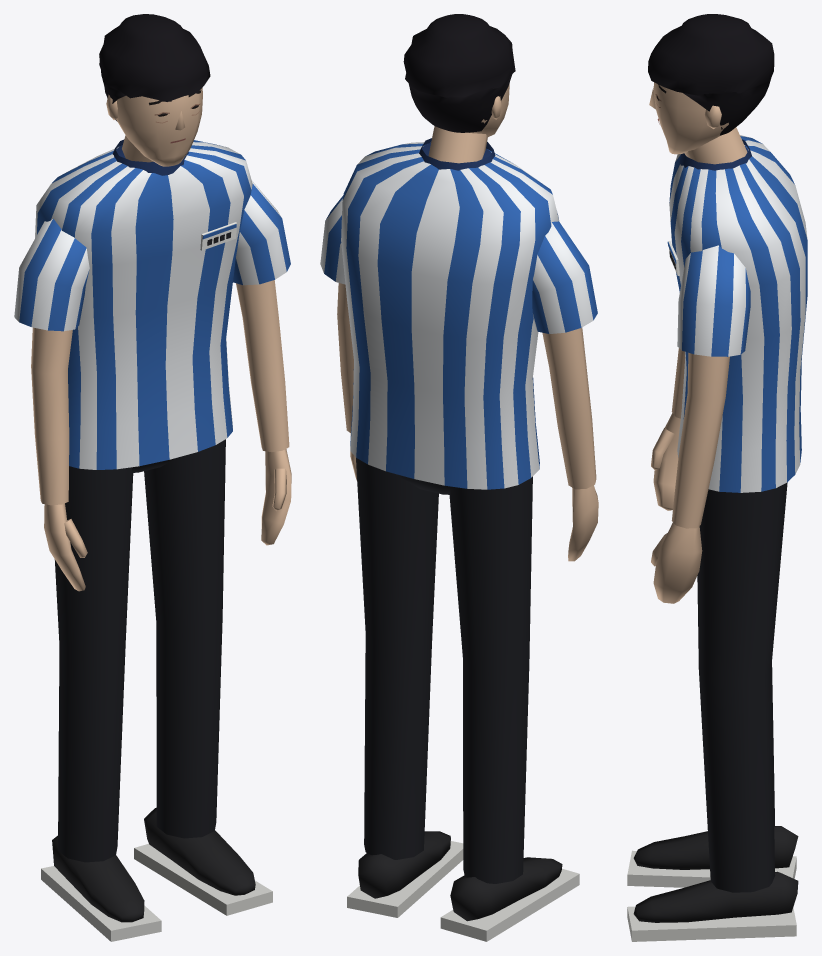
Rendered from npc_clerk.glb.
The picture shows the model from 3 angles, left to right: view 1: azimuth 30°, elevation 25°; view 2: azimuth 150°, elevation 25°; view 3: azimuth 270°, elevation 25°; orthographic projection.
Visible parts, largest first — view 1: body, hair, face; view 2: body, hair, face; view 3: body, hair, face.
Part boxes in pixels (x1=…): body: x1=14, y1=139, x2=291, y2=941; hair: x1=99, y1=14, x2=210, y2=121; face: x1=106, y1=88, x2=202, y2=166; body: x1=320, y1=138, x2=598, y2=941; hair: x1=403, y1=14, x2=515, y2=132; face: x1=428, y1=83, x2=509, y2=163; body: x1=627, y1=135, x2=807, y2=941; hair: x1=648, y1=14, x2=774, y2=135; face: x1=649, y1=82, x2=747, y2=164.
Bounding box in the file's own units: 0.5519 × 1.72 × 0.318.
